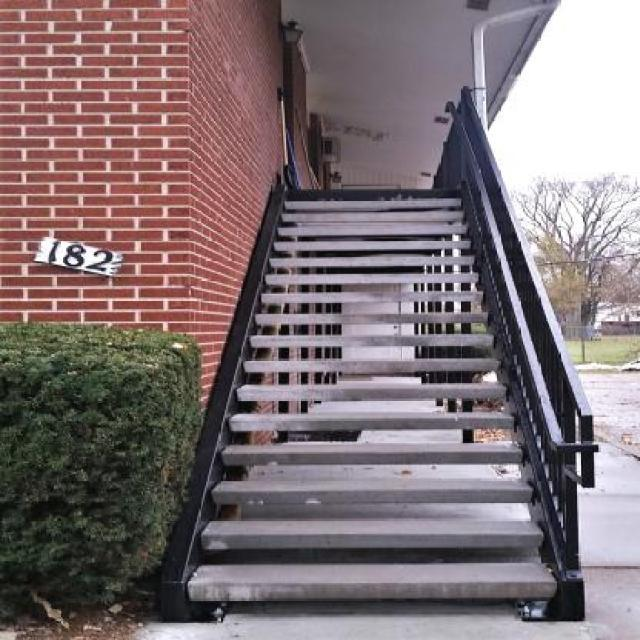stair: (105, 90, 610, 622)
